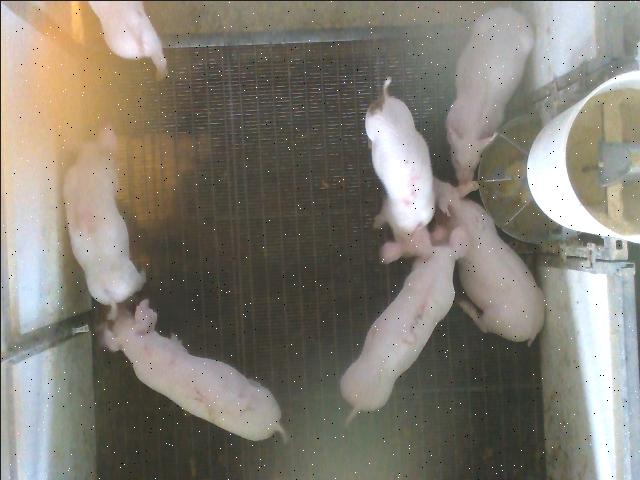pig-3: (340, 228, 468, 422)
pig-4: (62, 126, 145, 304)
pig-5: (364, 77, 434, 262)
